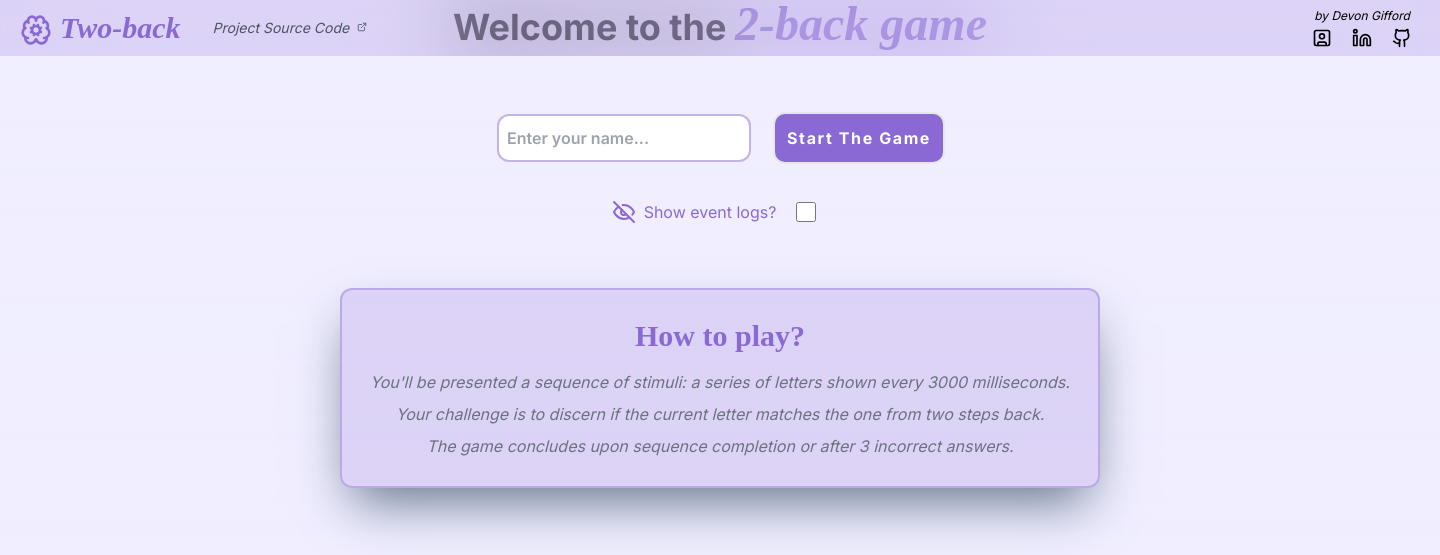
Test: Form Submission Tests › Long Username, displays an error message
Click the field at (624, 138), box [497,114,751,162]
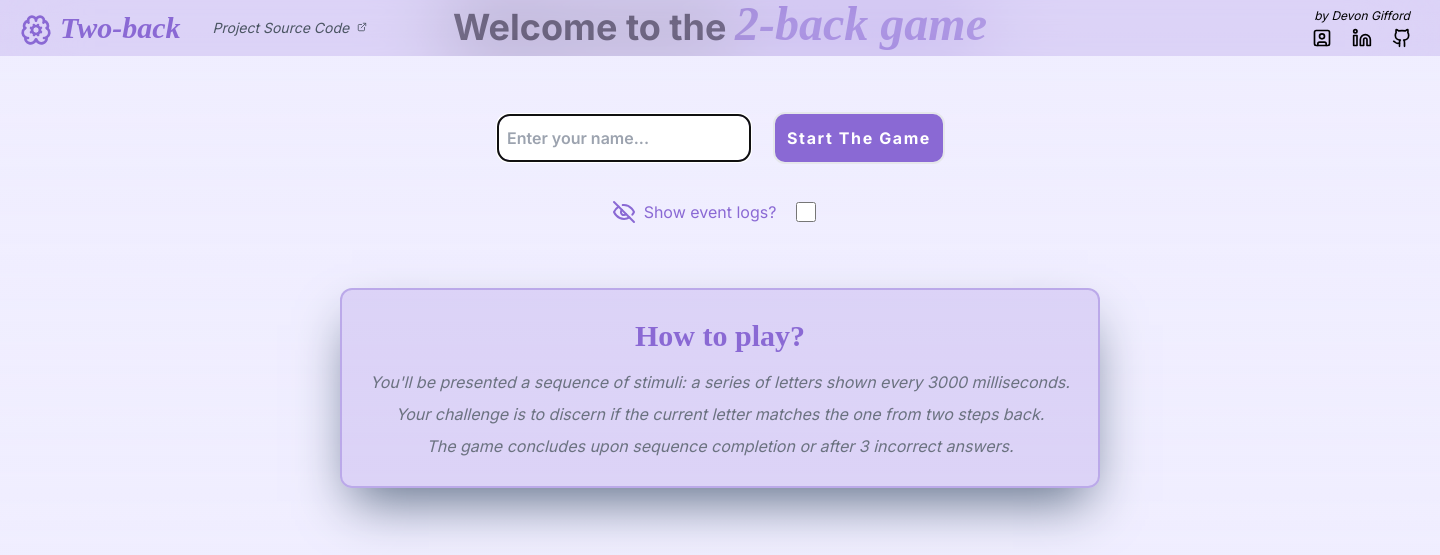
Type keys "ThisUserNameIsTooLong"
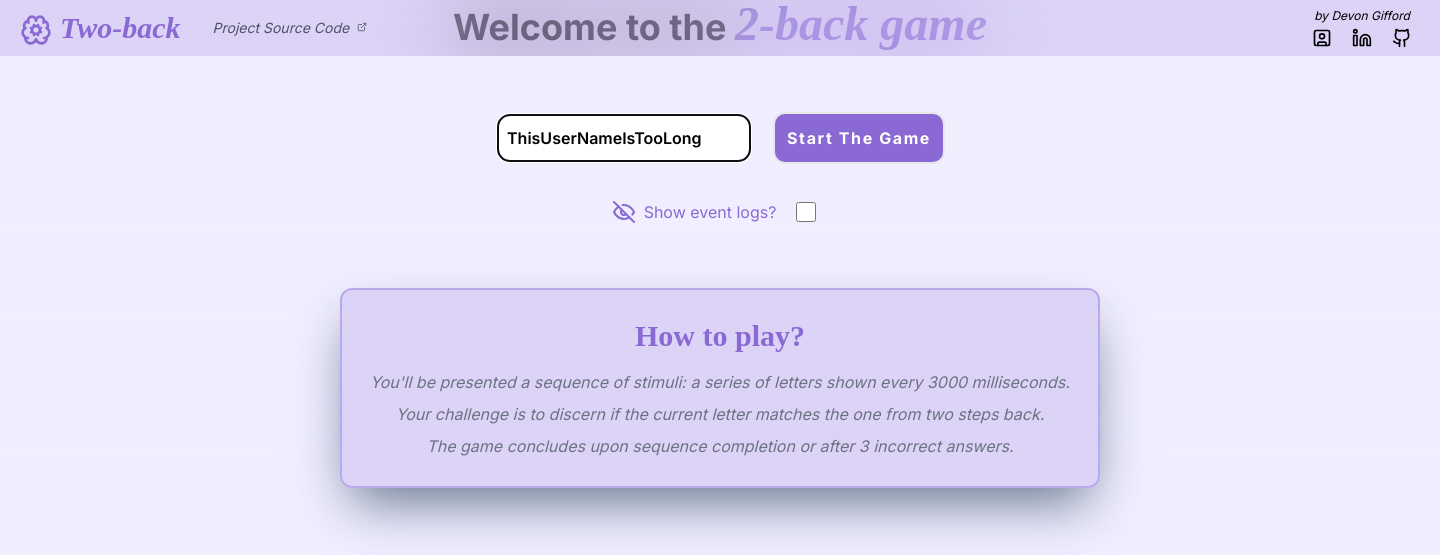
Now the field holds "ThisUserNameIsTooLong", box [497,114,751,162]
Click the button "Start The Game" at (859, 138), box [773,112,945,164]
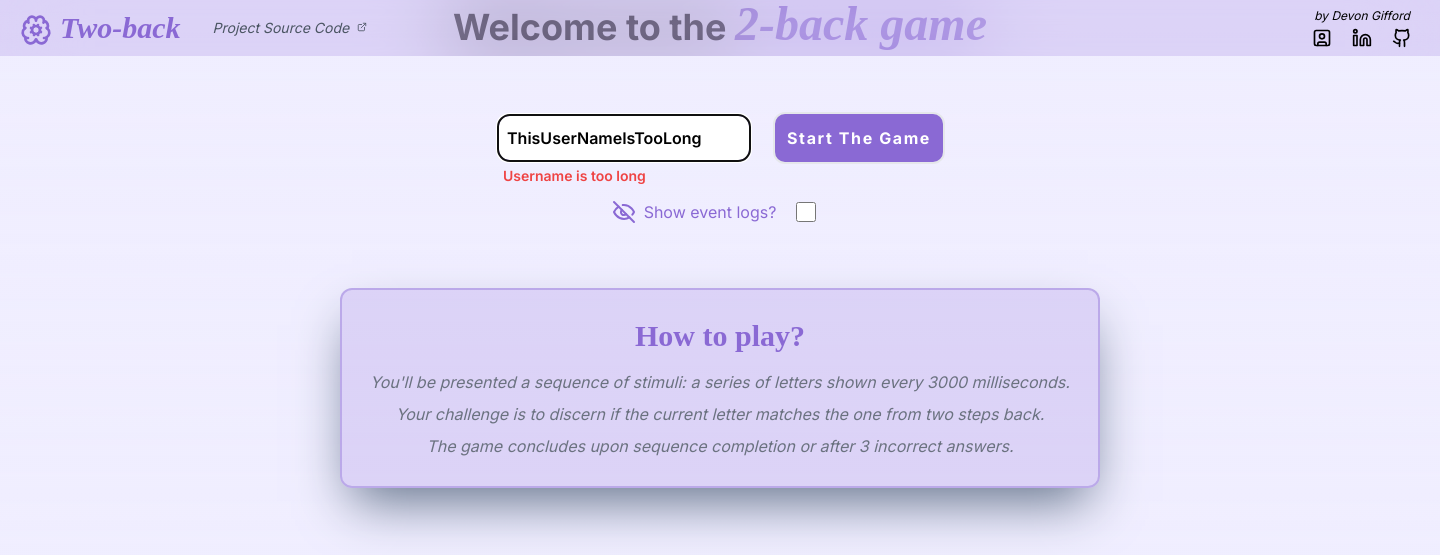
Now the text "Username is too long" is shown, box [503,166,646,182]
